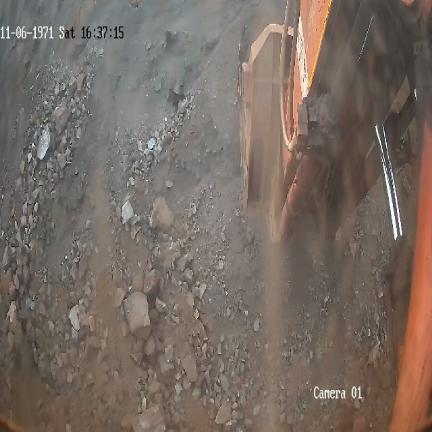pile: (0, 5, 385, 432)
